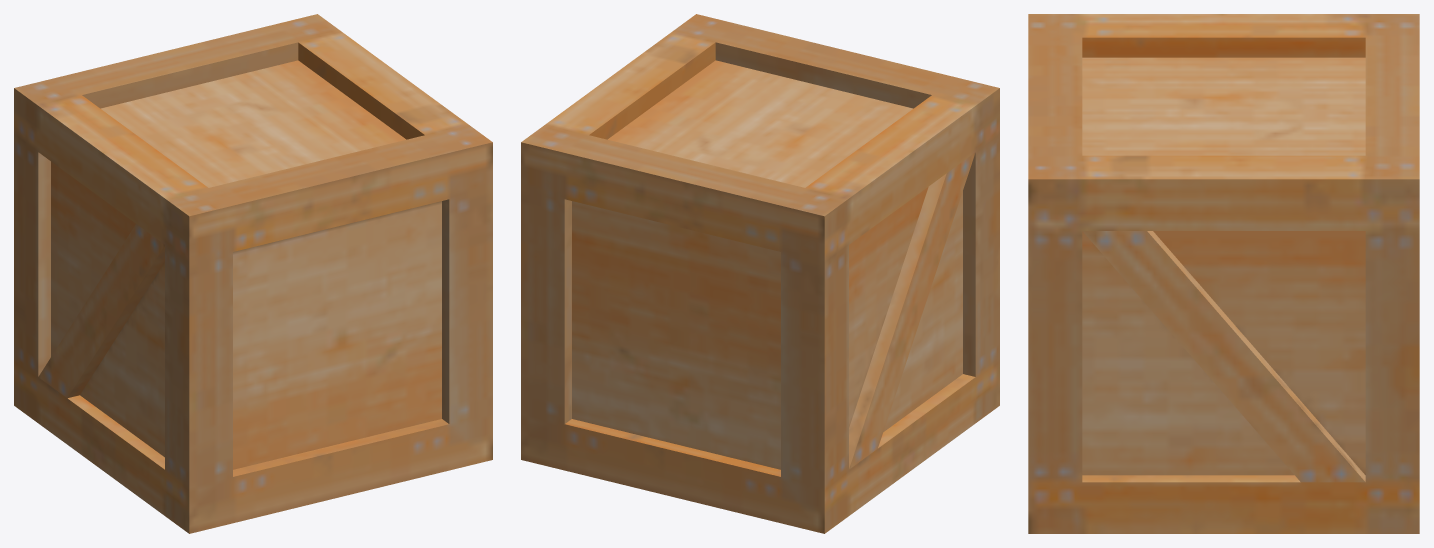
File: objects_un_woodbox01.gltf
The picture shows the model from 3 angles, left to right: view 1: azimuth 30°, elevation 25°; view 2: azimuth 150°, elevation 25°; view 3: azimuth 270°, elevation 25°; orthographic projection. The views are drawn at different scales.
Visible parts, largest first — view 1: um_objects_un_woodbox01_model_lod0Shape:objects_un_woodbox01; view 2: um_objects_un_woodbox01_model_lod0Shape:objects_un_woodbox01; view 3: um_objects_un_woodbox01_model_lod0Shape:objects_un_woodbox01.
Part boxes in pixels (x1,y1,x2,y2): um_objects_un_woodbox01_model_lod0Shape:objects_un_woodbox01: [14, 14, 492, 533]; um_objects_un_woodbox01_model_lod0Shape:objects_un_woodbox01: [521, 14, 999, 533]; um_objects_un_woodbox01_model_lod0Shape:objects_un_woodbox01: [1028, 14, 1419, 533].
Size of what is drawn, in the model's own units: 1 by 1 by 1.
1 material, 1 textured.
